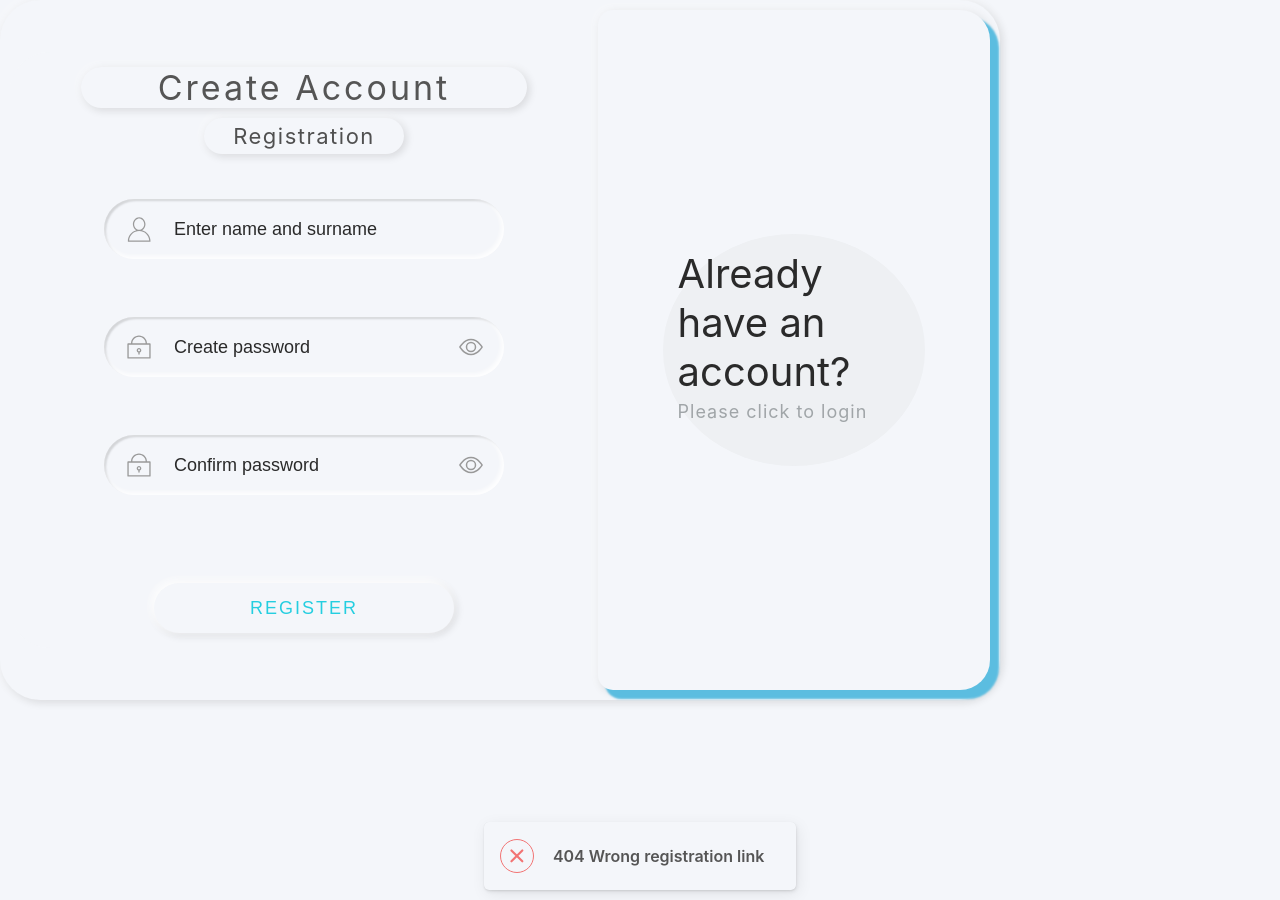
Test: Register tests › error is visible after not match passwords
This screenshot has width=1280, height=900.
In the field labelled "Enter name and surname": (324, 229) [164,198,484,260], type "Bilbo Beggins"
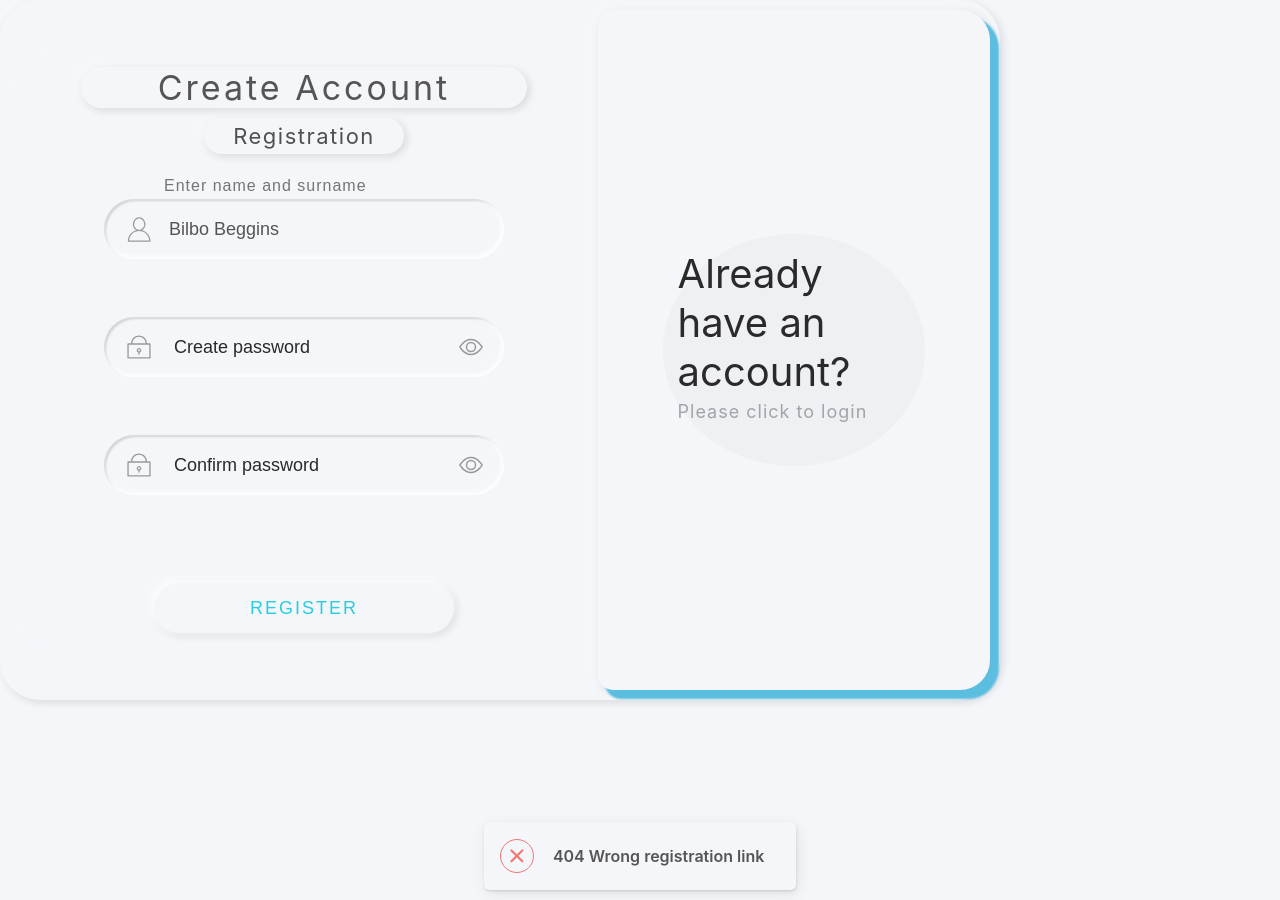
In the password field labelled "Create password": (312, 347) [164,316,459,378], type "123ertE#4"
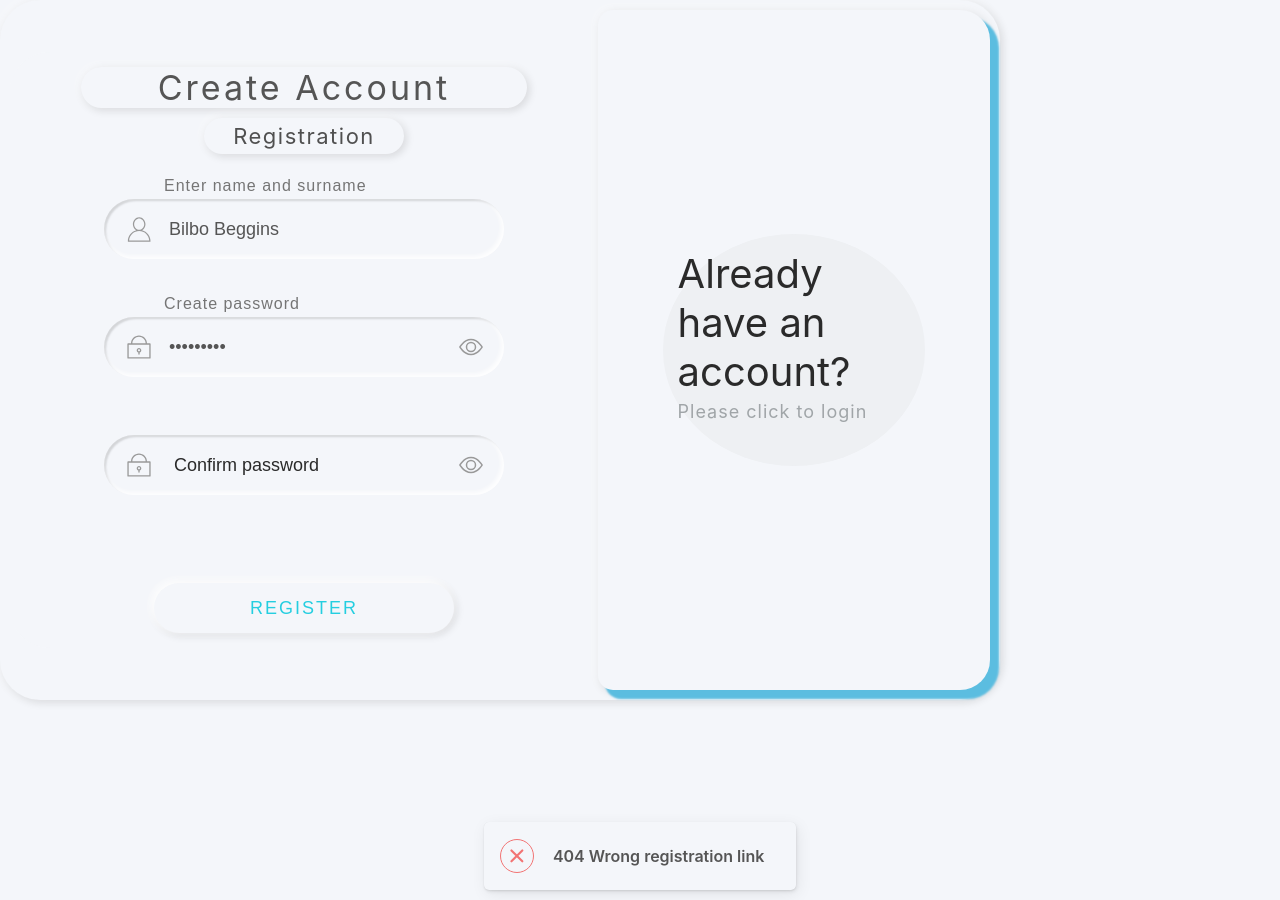
In the password field labelled "Confirm password": (312, 465) [164,434,459,496], type "123ertE#4s"
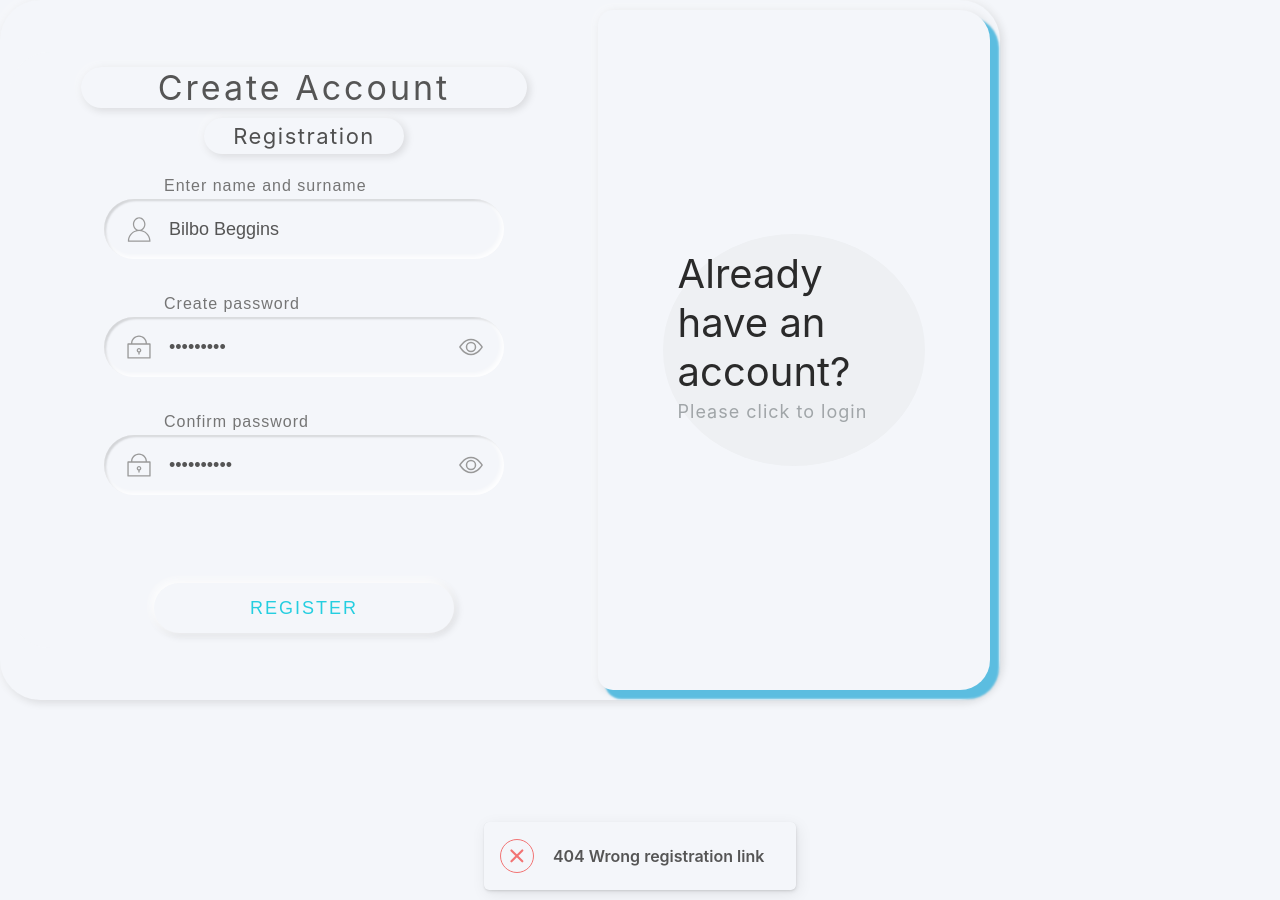
Click the button "Register": (304, 608) [154,583,454,633]
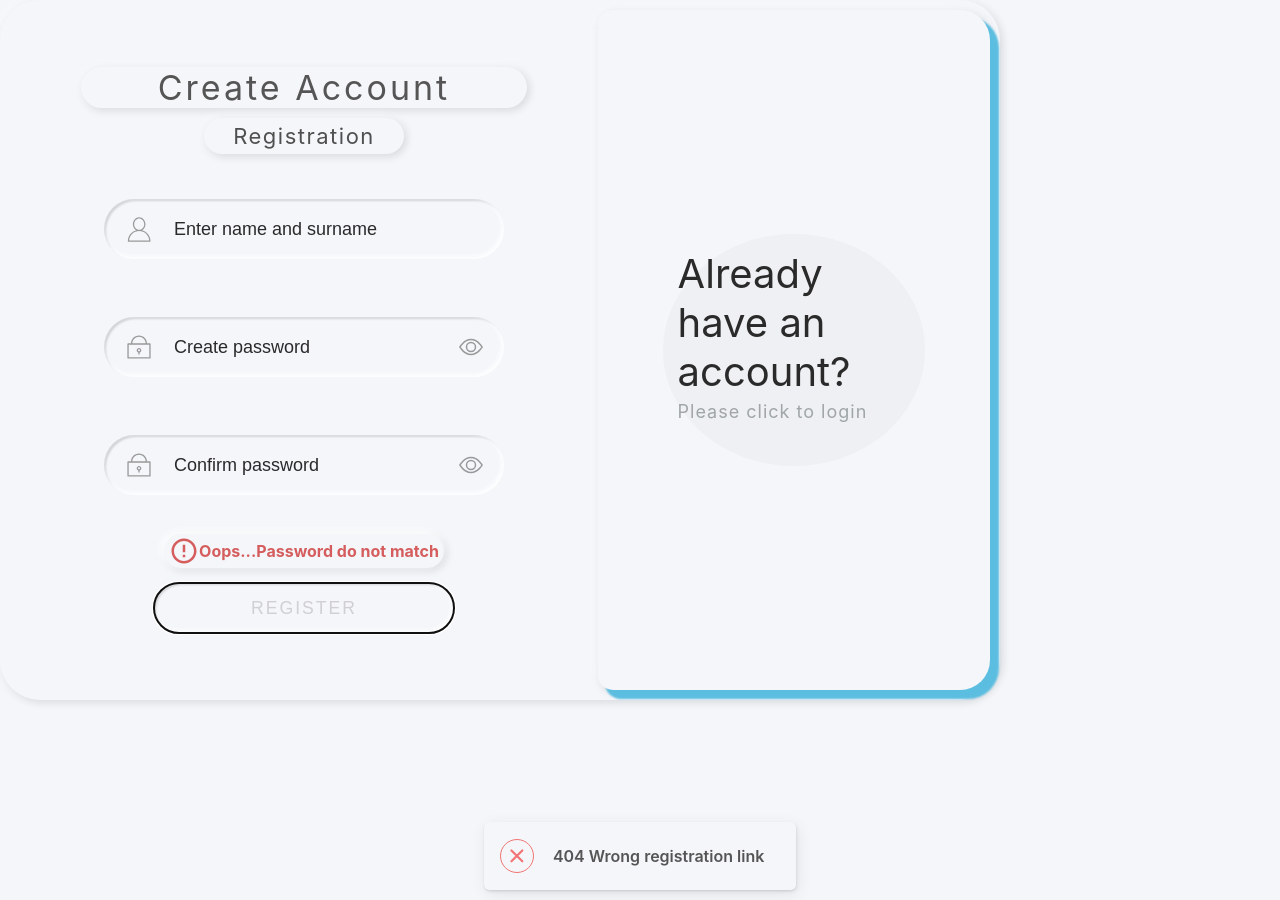
Check: the text "Oops...Password do not match" is shown, box [199,536,439,566]
